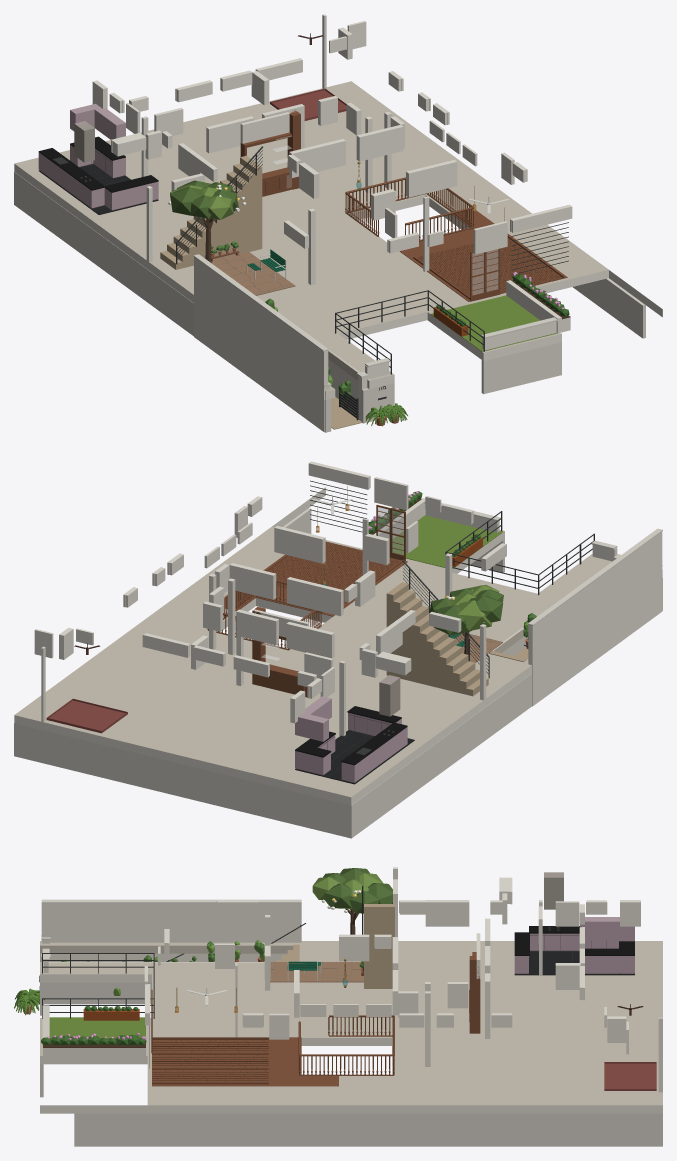
Rendered from ground.glb.
3 views of the same model, one above another, from view 1: azimuth 30°, elevation 25°; view 2: azimuth 150°, elevation 25°; view 3: azimuth 270°, elevation 25° (orthographic).
Parts seen in each view (by area): view 1: Terrazzo.001, Lime White_high.001, Lime White.001, Lime White Shade, Teak.001, Kota.001, Mauve Laminate, Charcoal Steel, Lime White_wall.001, Lawn, Entrance Stone, Black Granite (+9 smaller); view 2: Terrazzo.001, Lime White_high.001, Lime White Shade, Lime White.001, Teak.001, Kota.001, Mauve Laminate, Lime White_wall.001, Charcoal Steel, Lawn, Red Oxide, Black Granite (+8 smaller); view 3: Terrazzo.001, Lime White Shade, Lime White.001, Lime White_high.001, Teak.001, Mauve Laminate, Teak Seam, Kota.001, Lime White_wall.001, Lawn, Foliage #4E6B35, Red Oxide (+10 smaller).
Part boxes in pixels (x1,y1,x2,y2): Terrazzo.001: (14,81,662,391); Lime White_high.001: (92,21,572,254); Lime White.001: (14,164,662,432); Lime White Shade: (14,172,645,432); Teak.001: (211,110,567,301); Kota.001: (160,155,362,429); Mauve Laminate: (38,103,158,210); Charcoal Steel: (53,146,568,420); Lime White_wall.001: (141,14,429,285); Lawn: (431,295,557,351); Entrance Stone: (211,251,295,295); Black Granite: (38,136,158,192); Terrazzo.001: (14,488,611,797); Lime White_high.001: (34,461,506,723); Lime White Shade: (14,502,662,838); Lime White.001: (14,487,662,805); Teak.001: (207,505,407,697); Kota.001: (386,582,528,696); Mauve Laminate: (295,676,407,782); Lime White_wall.001: (41,518,486,736); Charcoal Steel: (310,480,594,755); Lawn: (392,515,502,568); Red Oxide: (46,645,498,733); Black Granite: (295,706,407,765); Terrazzo.001: (40,941,662,1105); Lime White Shade: (40,935,662,1146); Lime White.001: (40,903,662,1113); Lime White_high.001: (144,877,640,1054); Teak.001: (151,952,480,1086); Mauve Laminate: (514,872,634,973); Teak Seam: (152,1039,268,1081); Kota.001: (276,904,394,988); Lime White_wall.001: (235,867,662,1092); Lawn: (49,1017,145,1038); Foliage #4E6B35: (323,868,392,913); Red Oxide: (270,982,656,1090).
Bounding box in the file's own units: 6.28 × 2.56 × 10.42.
